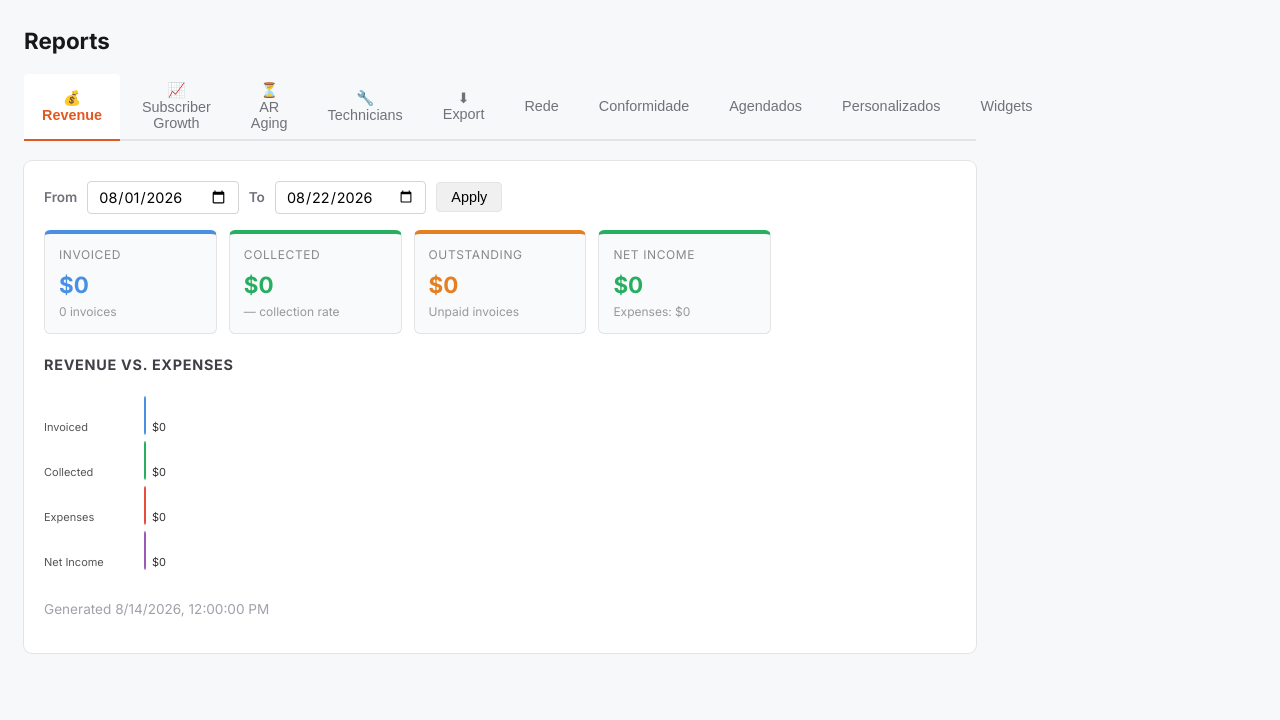
it: Reports compliance tab — operational connection logging › localizes the operational status and fallback disclaimer in Portuguese
Click the button "Conformidade".
click(644, 106)  # box x1=581 y1=74 x2=707 y2=139
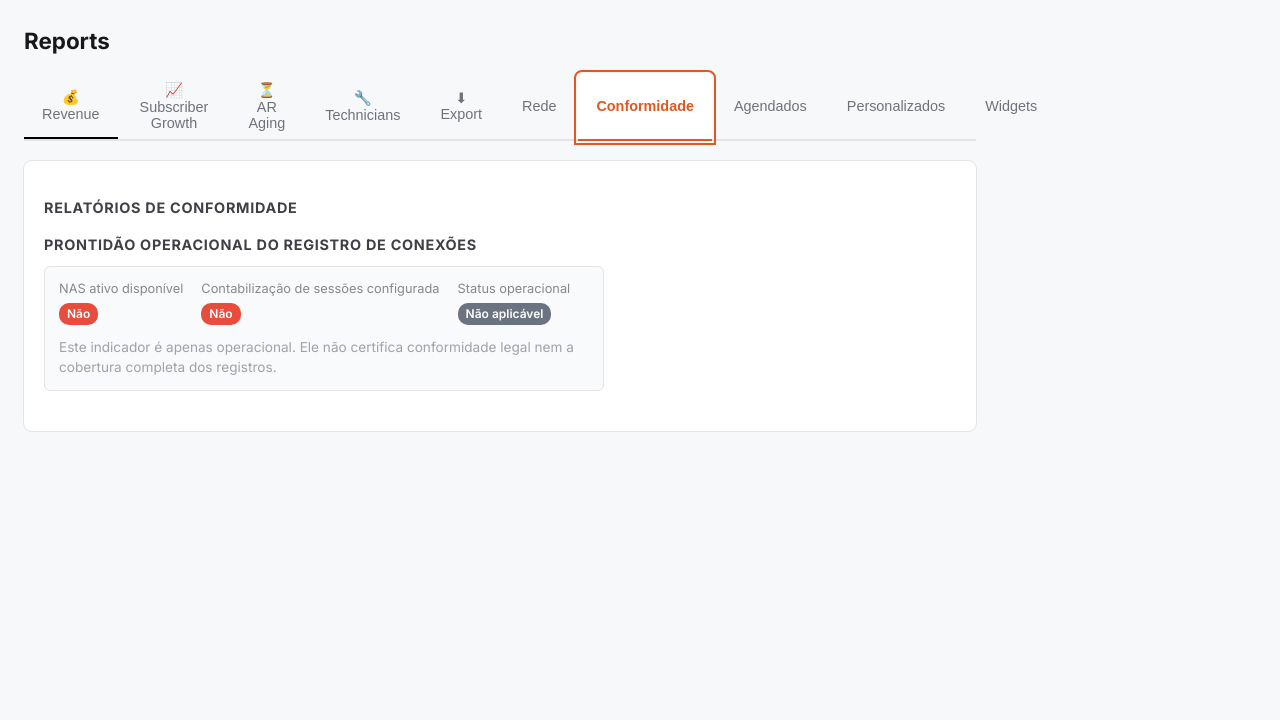
Check: the heading "Prontidão operacional do registro de conexões" is shown, box x1=44 y1=236 x2=477 y2=253
Check: the text named "Status operacional" reads "Não aplicável", box x1=466 y1=306 x2=544 y2=321
Check: the text "Este indicador é apenas operacional. Ele não certifica conformidade legal nem a cobertura completa dos registros." is shown, box x1=59 y1=339 x2=574 y2=375
